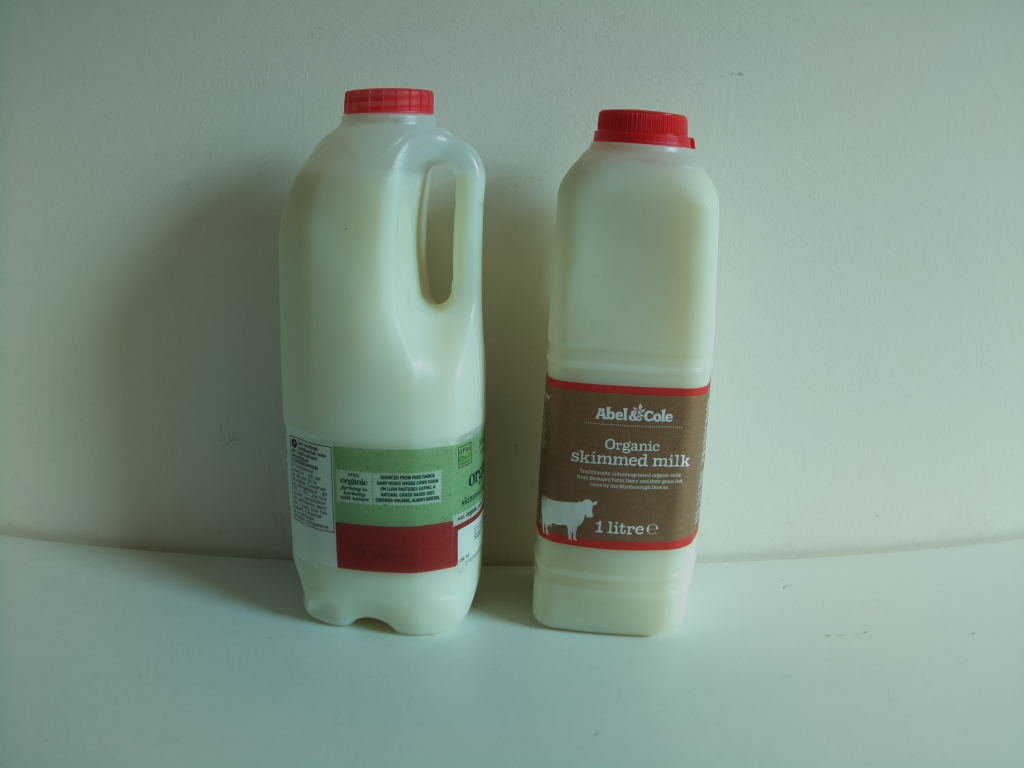milk: (280, 82, 496, 633), (526, 103, 736, 645)
